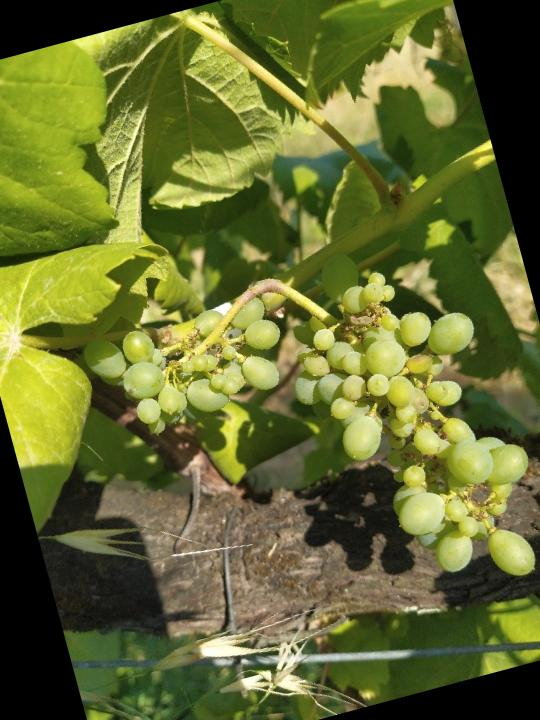grape: (69, 213, 540, 676)
